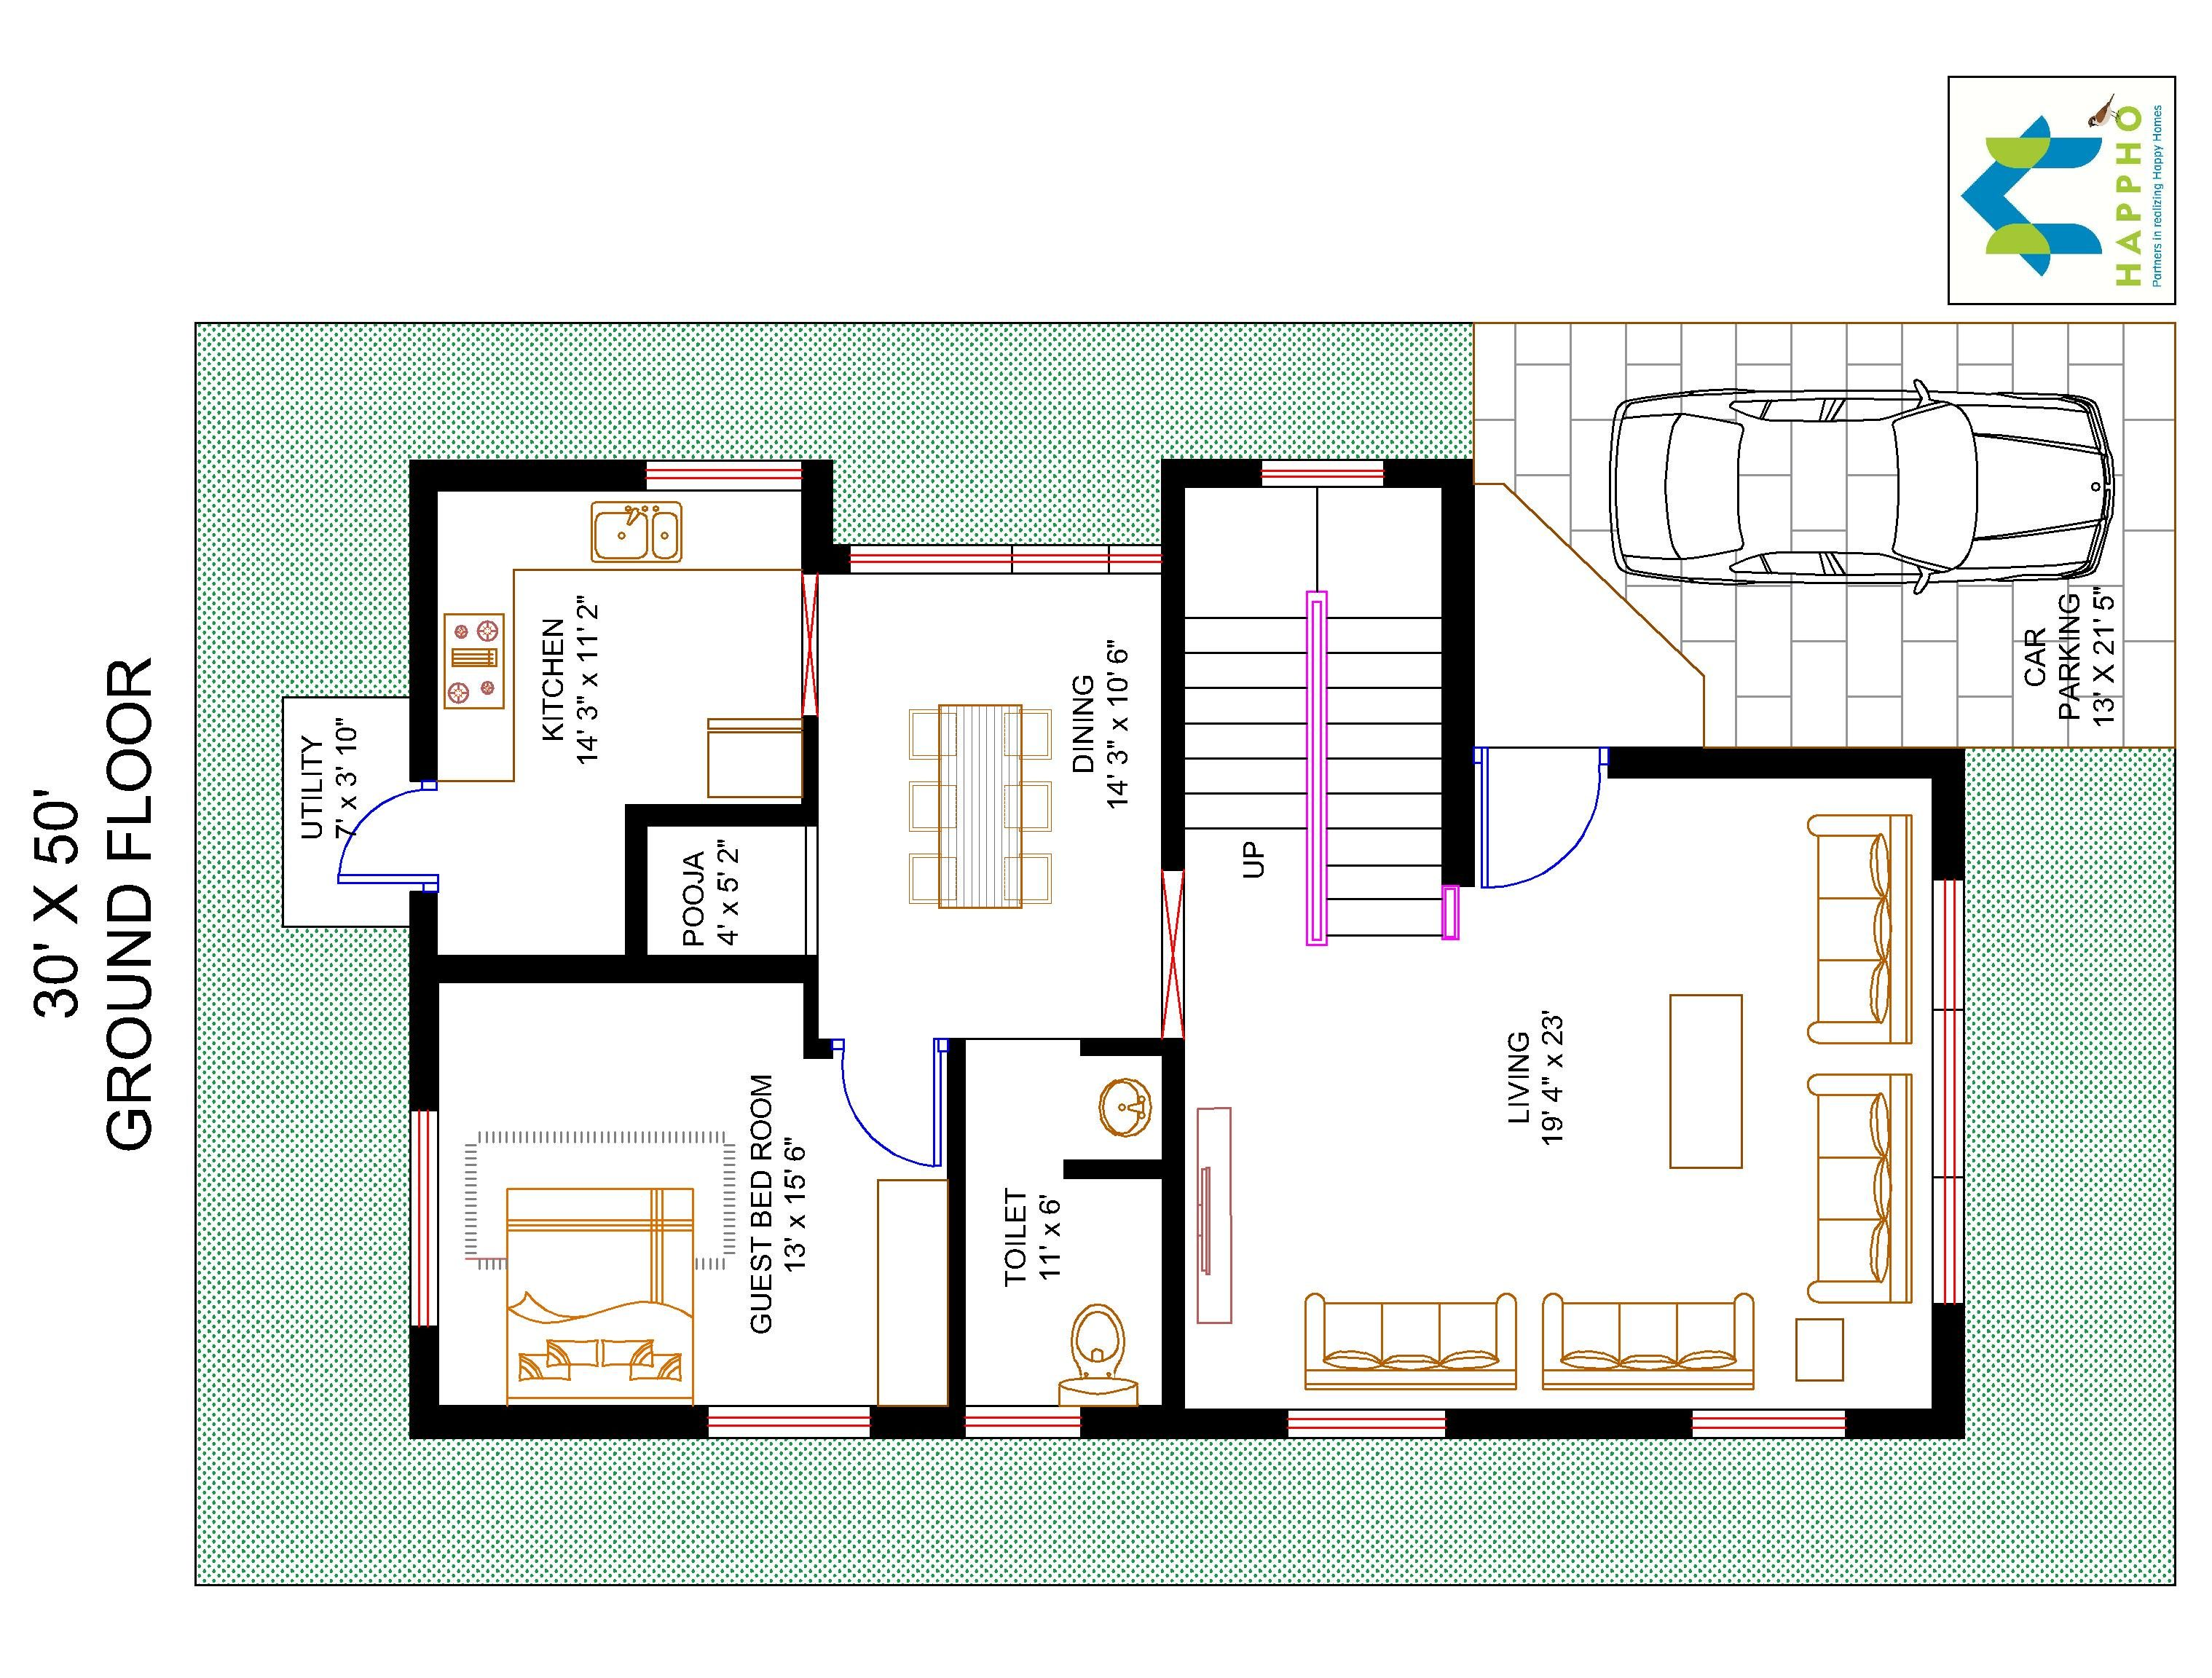window: (1930, 881, 1965, 1304), (848, 541, 1163, 578), (407, 1110, 441, 1327), (707, 1403, 871, 1442), (643, 457, 805, 494), (1285, 1407, 1447, 1440), (1690, 1407, 1847, 1438), (962, 1403, 1082, 1440), (1258, 458, 1385, 492)
